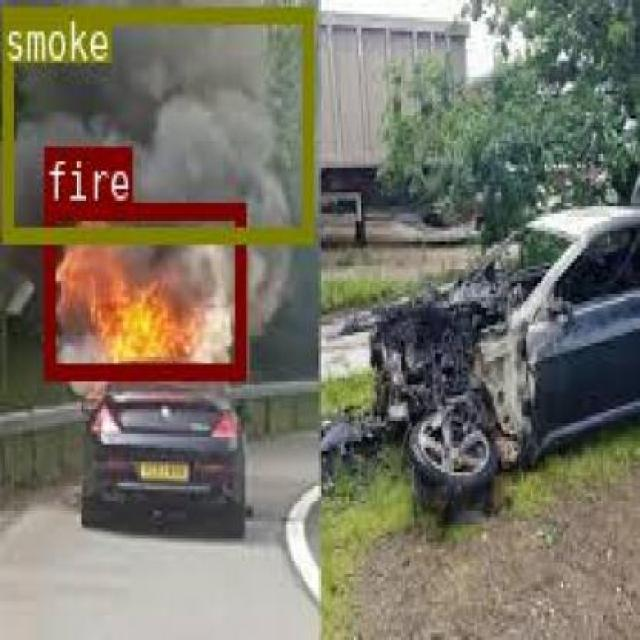Fire: (43, 200, 245, 376)
Smoke: (2, 3, 310, 240)
